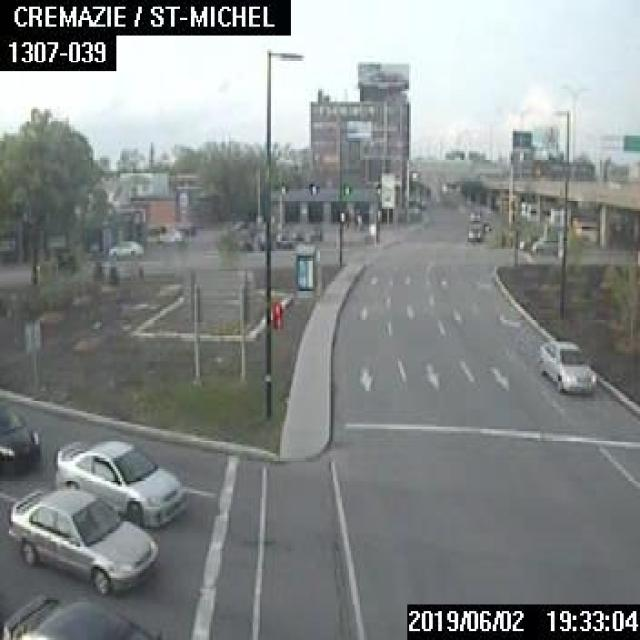vehicle: (4, 485, 156, 591), (52, 436, 182, 527), (0, 586, 164, 638), (536, 337, 596, 391), (0, 396, 40, 466), (107, 237, 142, 256), (155, 222, 182, 246), (531, 235, 562, 253), (466, 222, 479, 240), (469, 209, 479, 221)
